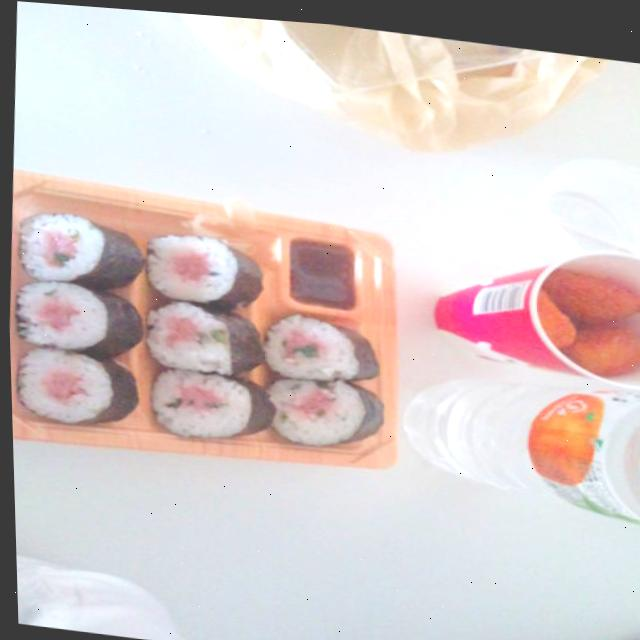寿司卷物: (4, 187, 403, 480)
鸡肉料理 含炸鸡: (528, 243, 640, 376)
